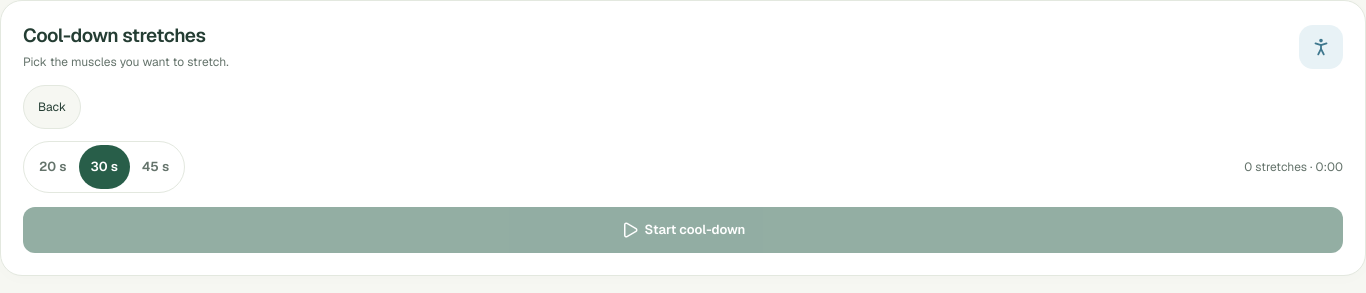
Cool-down stretches › remembers the hold and needs a muscle to start
Expected: the text "Pick the muscles you want to stretch." is shown, [23,53,229,71]
Expected: the button "Start cool-down" is disabled, [23,207,1343,253]
Click the button "Back" at (52,107), box [23,85,81,129]
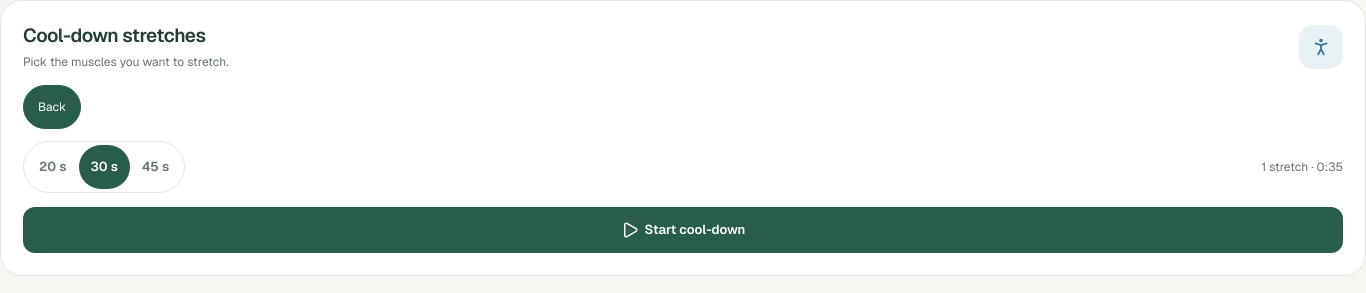
Click the button "45 s" at (156,167), box [130,145,181,189]
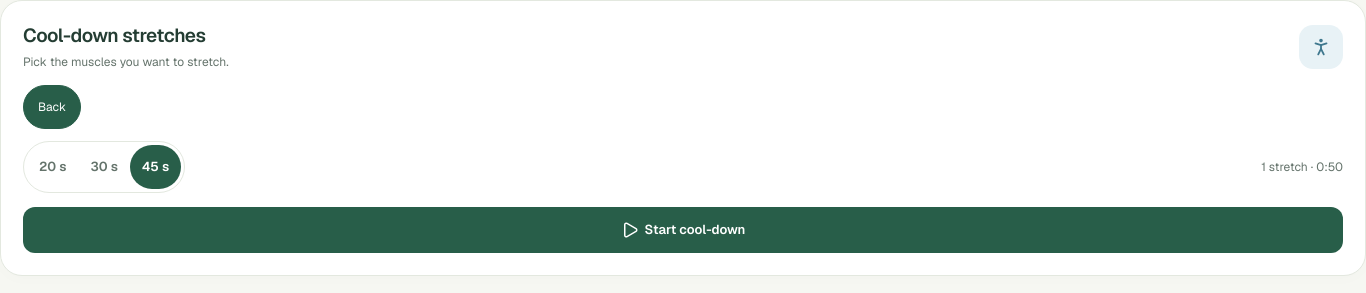
Expected: the button "Start cool-down" is enabled, [23,207,1343,253]
Expected: the text "1 stretch · 0:50" is shown, [1261,158,1343,176]
